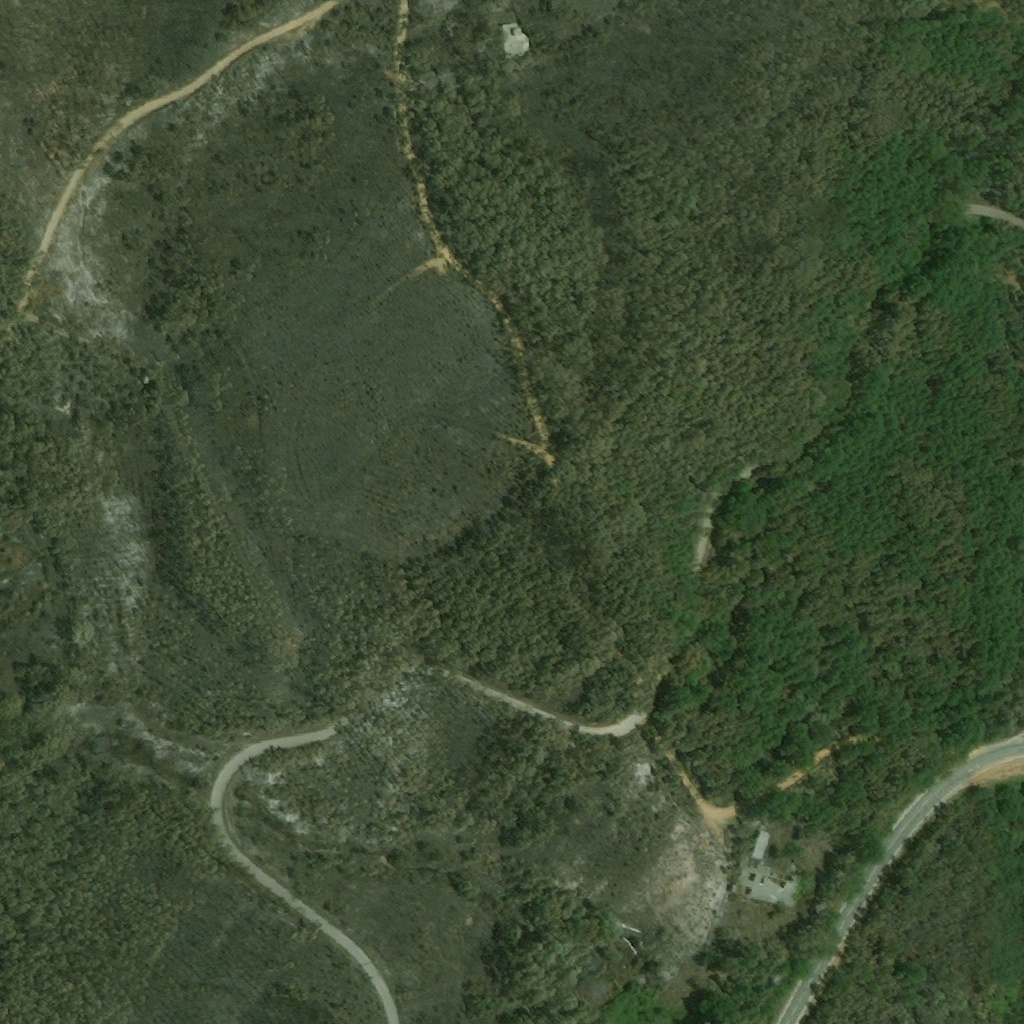0 no-damage: (502, 26, 531, 54), (750, 830, 773, 864)
2 major-damage: (753, 867, 803, 905)
